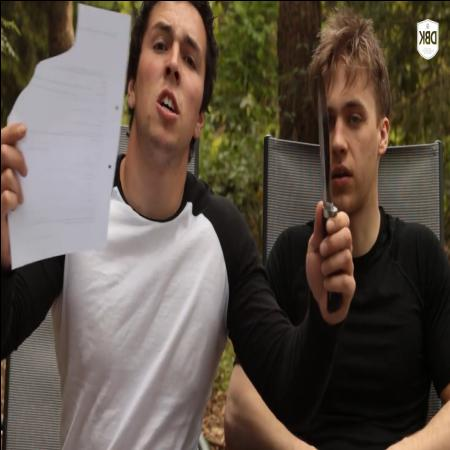long weapon: (308, 48, 355, 300)
